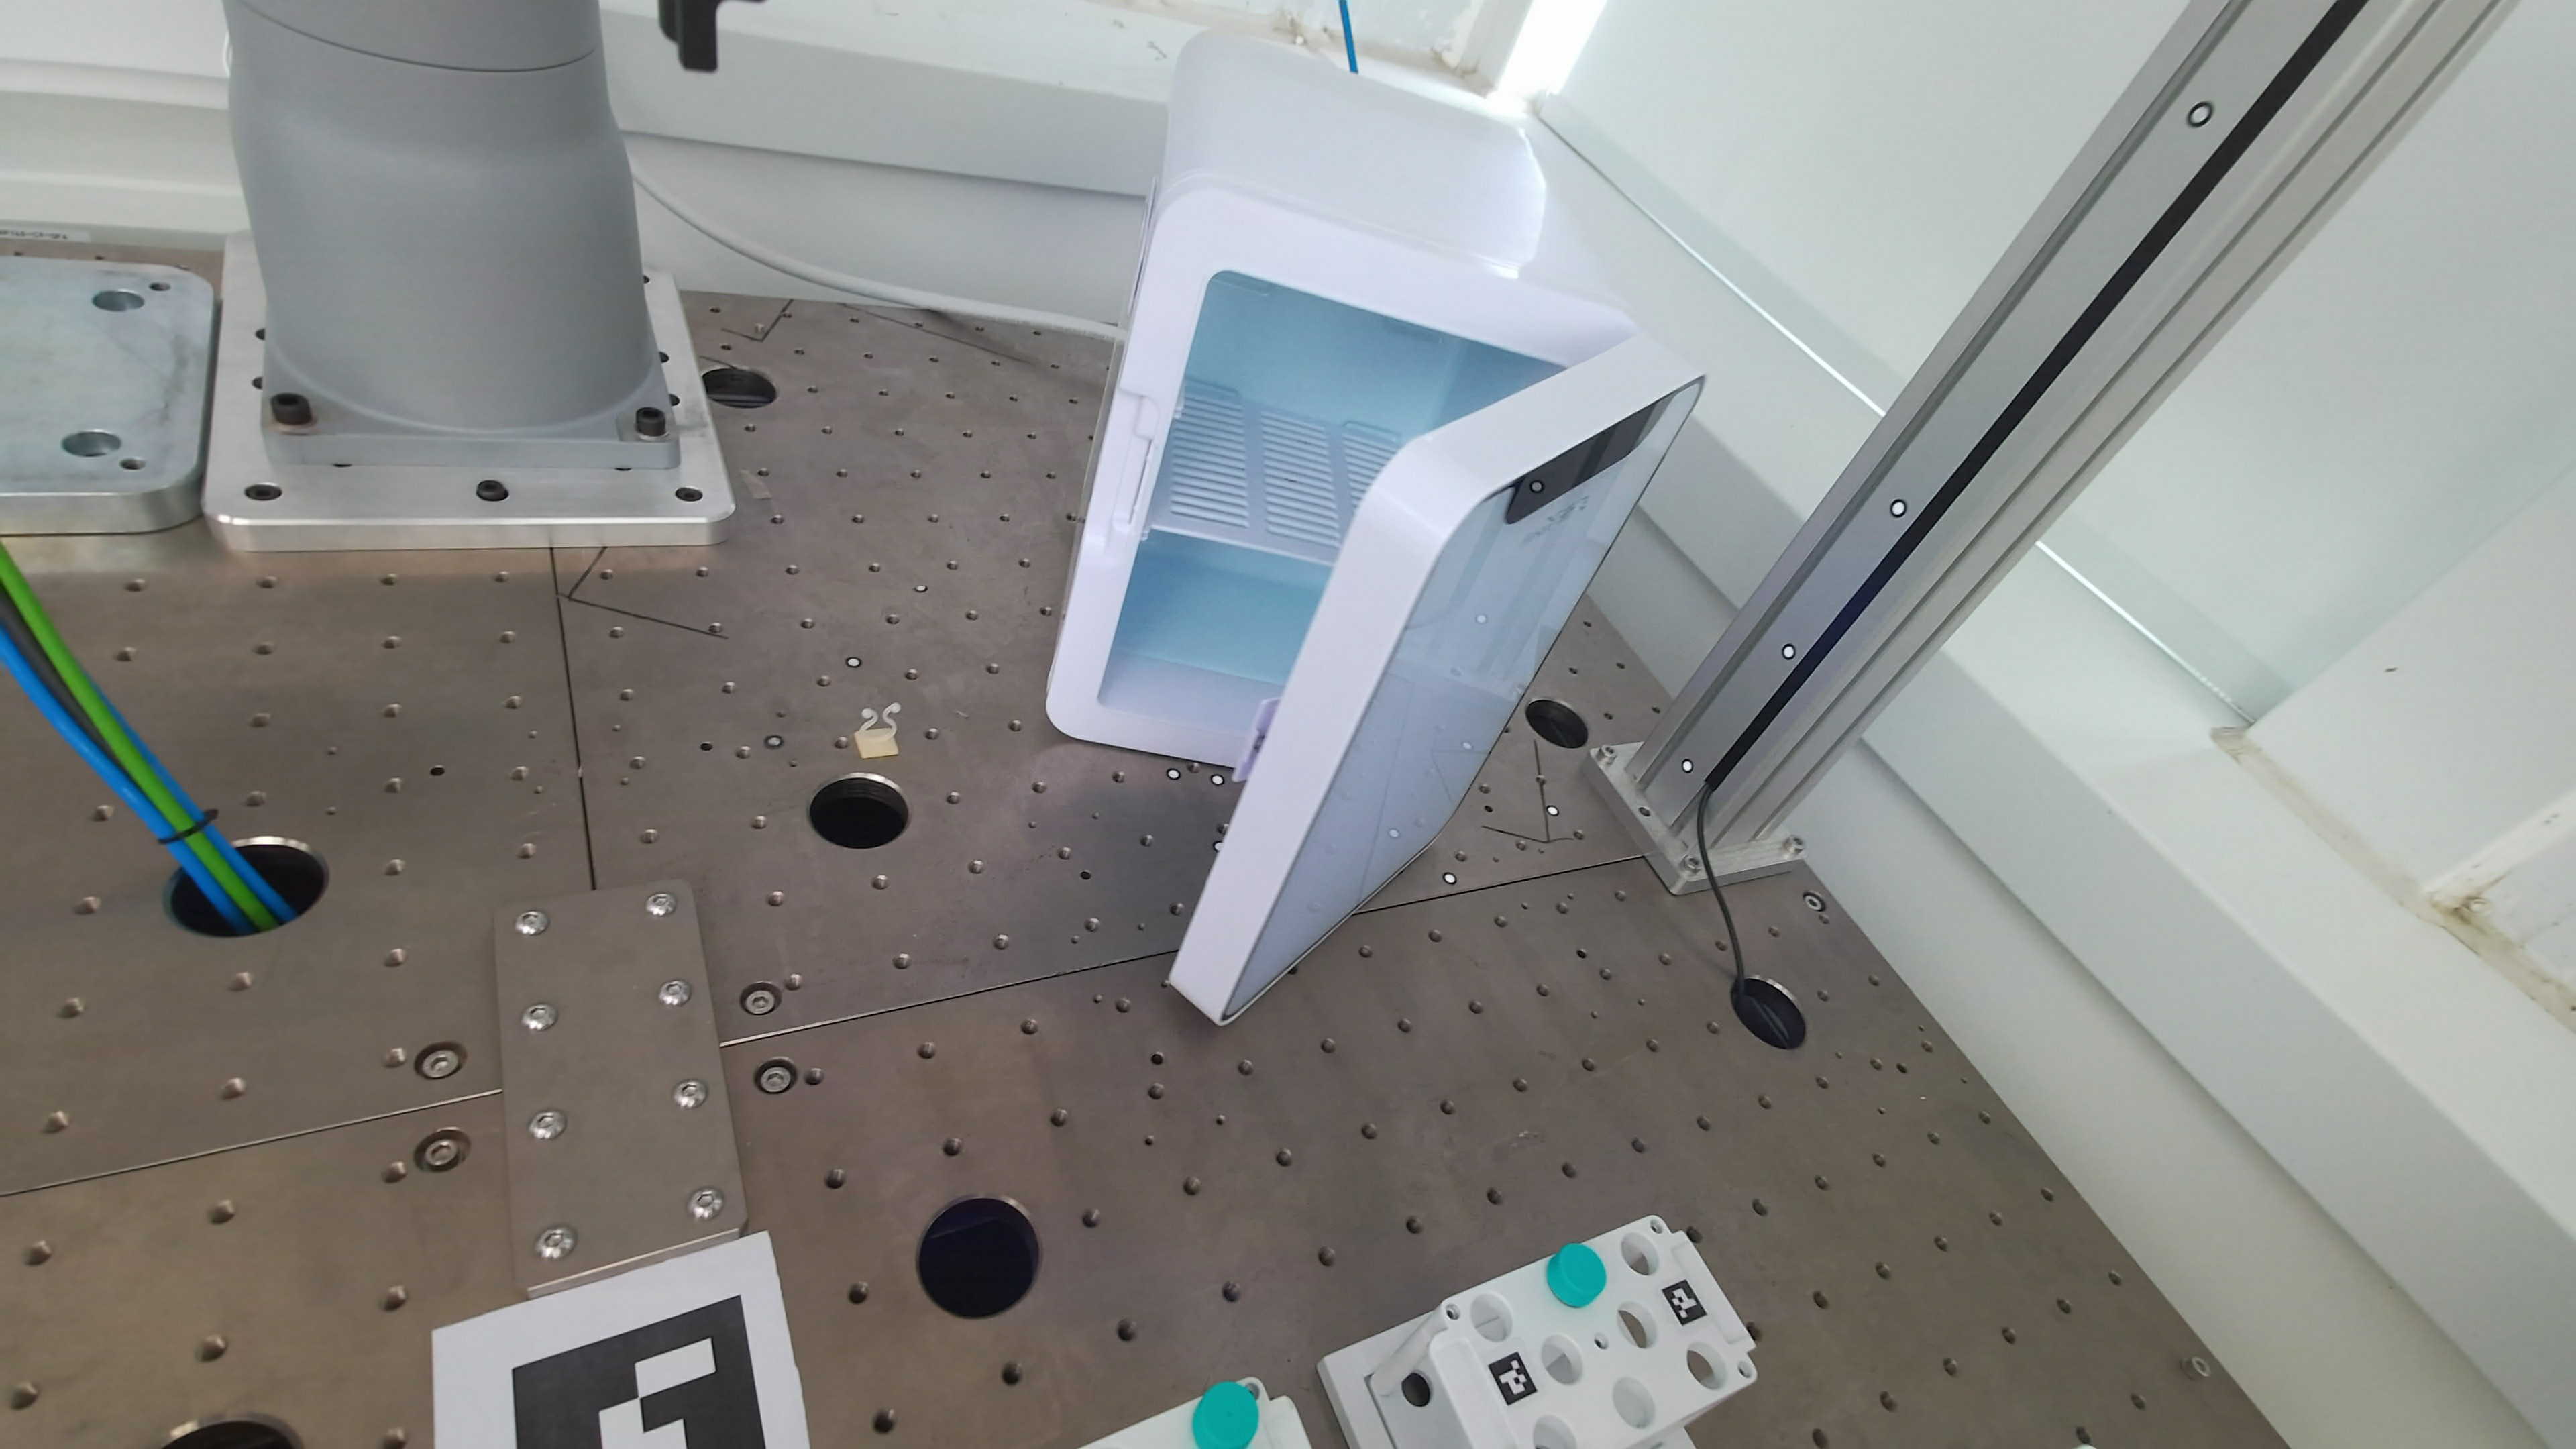10ML_centrifuge_tube: (1191, 1382, 1260, 1449), (1546, 1244, 1606, 1307)
dispensing_tube_rack: (1095, 1215, 1757, 1449)
refrigerator_open: (1047, 34, 1698, 1021)
